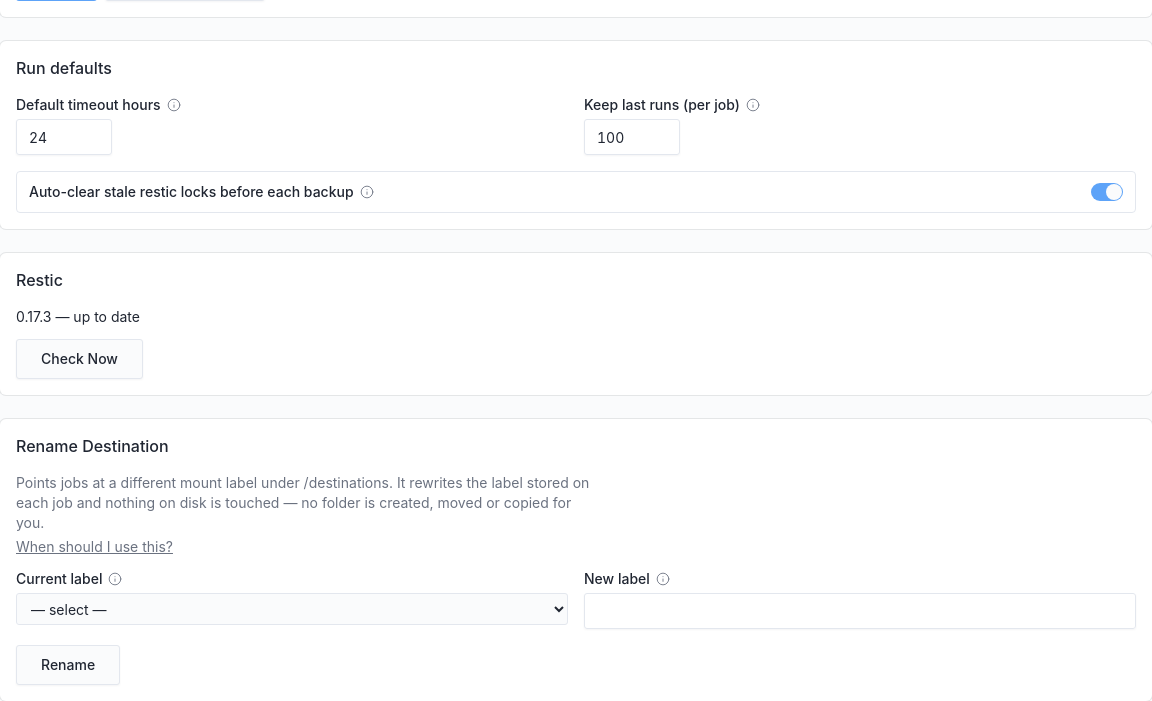
Scenario: Settings › rename destination form › shows affected jobs count on success
(page scrolled)
Select "main" in the dropdown labelled "Current label" at (292, 609), box [16,593,568,625]
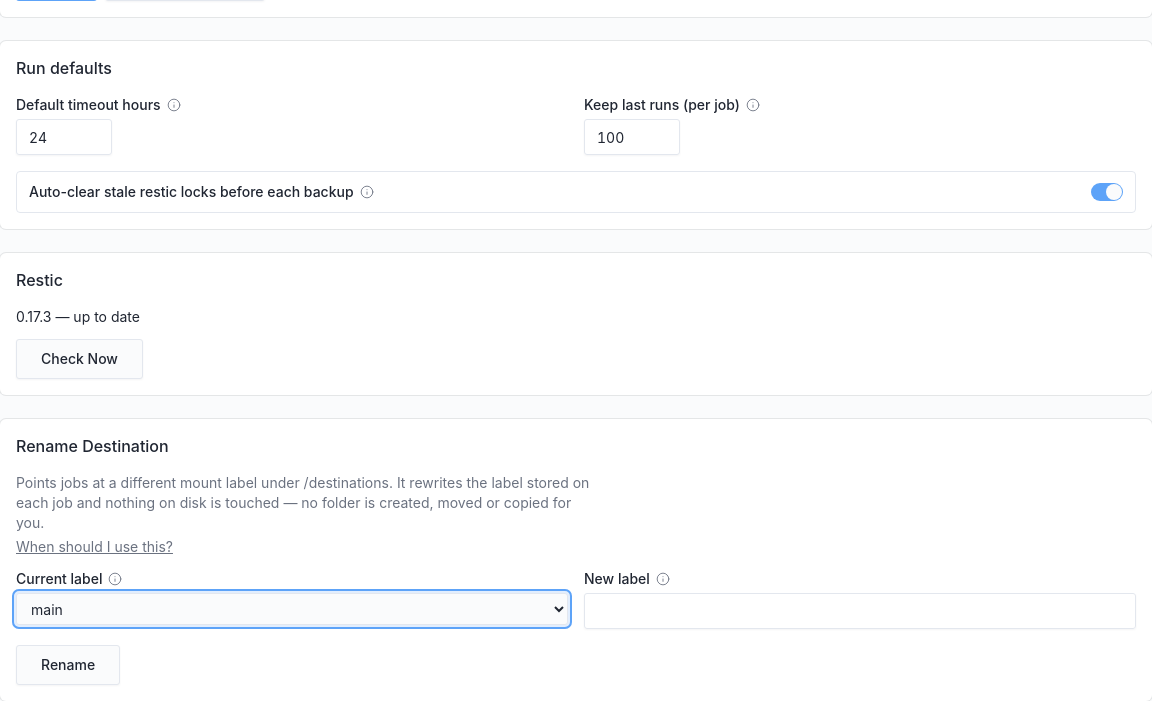
Type "primary" into the field labelled "New label" at (860, 611), box [584,593,1136,629]
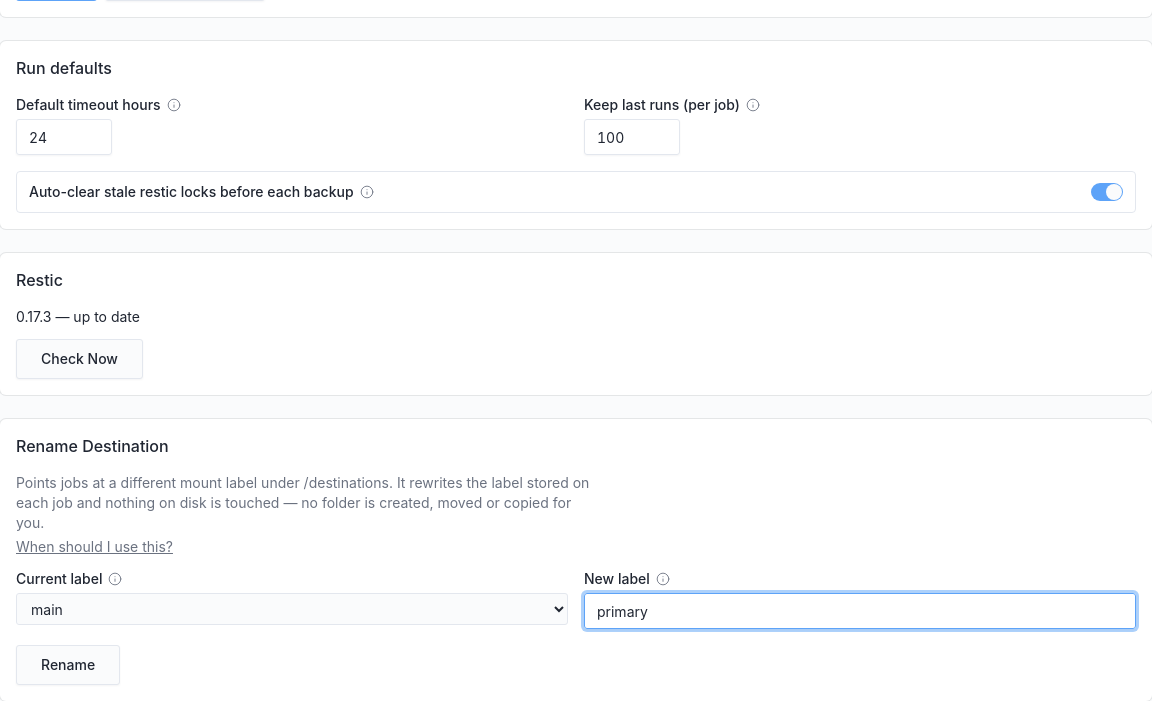
Click the button "Rename" at (68, 665), box [16,645,120,685]
(page scrolled)
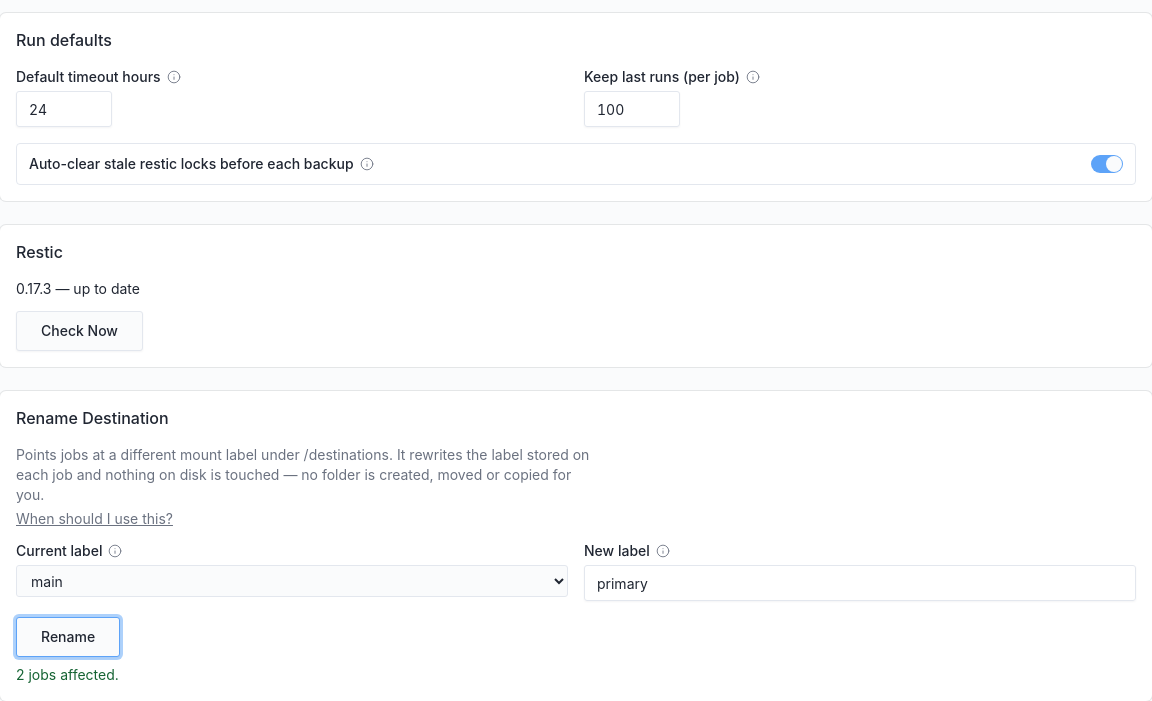
expect the text "2 jobs affected." is shown: met, box [16,666,119,683]
